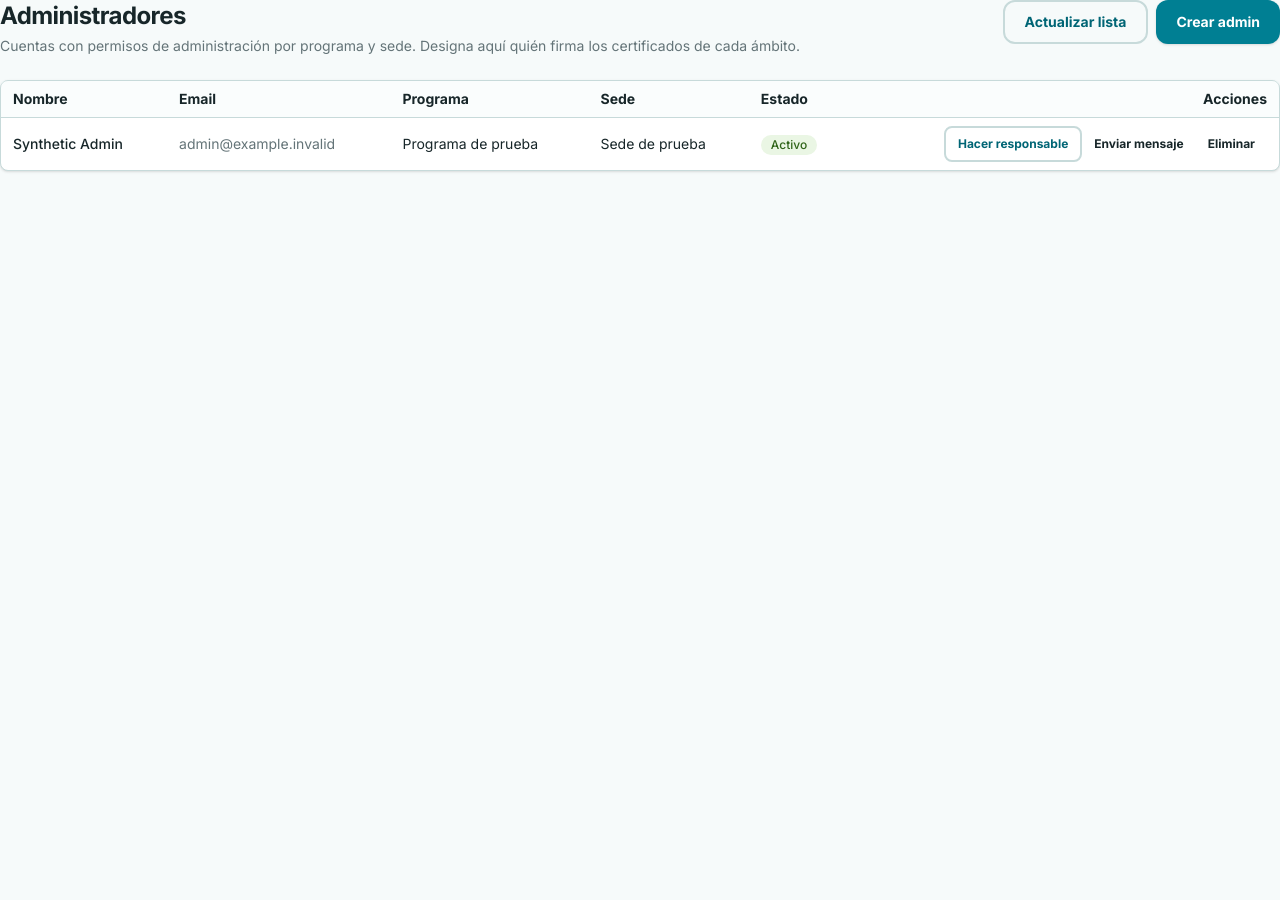
Test case: shows a safe error and retains the draft when thread creation fails
The image size is (1280, 900).
Expected: the text "admin@example.invalid" is shown, [167,118,390,170]
Click the button "Enviar mensaje". click: point(1139, 144)
box: [1082,126,1196,162]
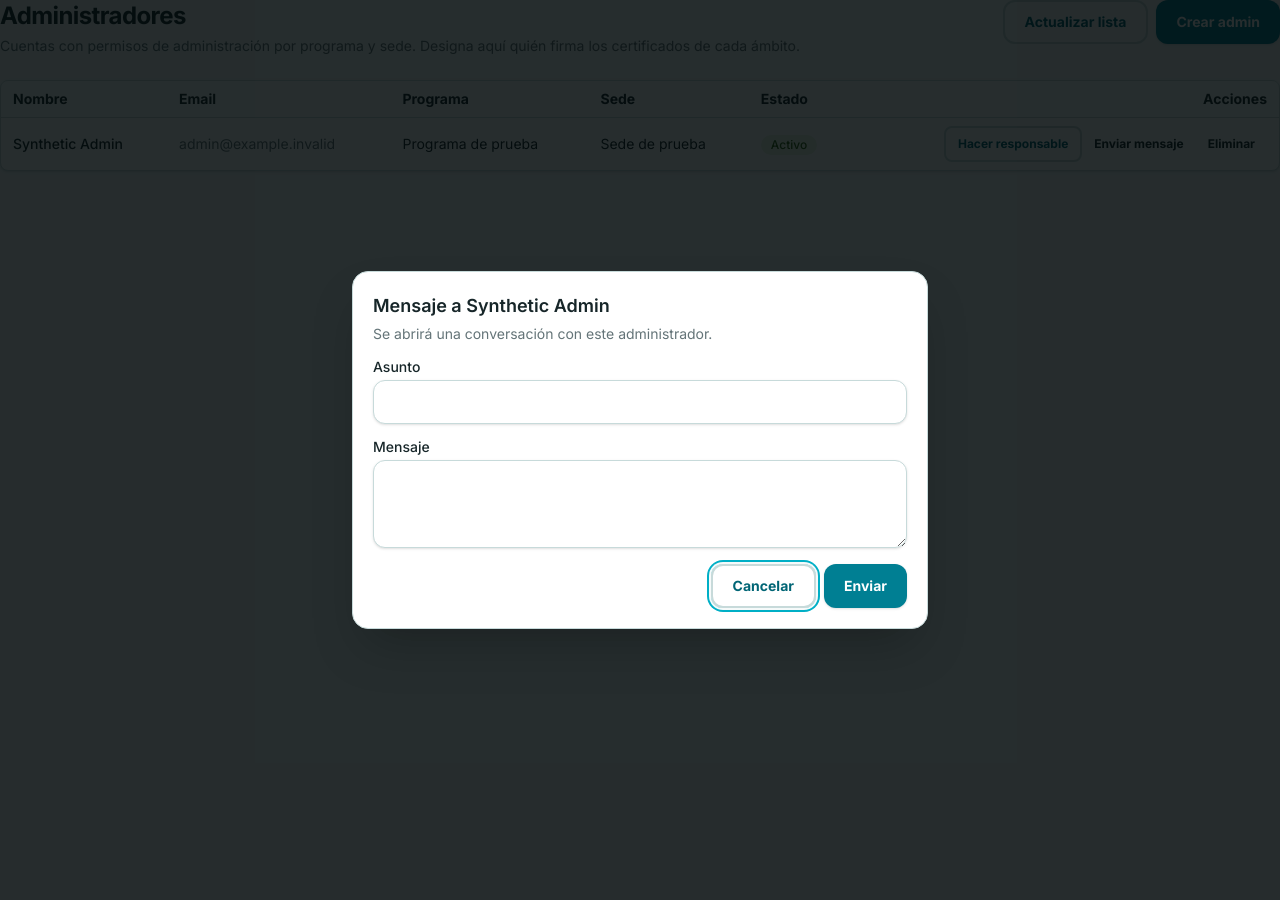
Type "Consulta de prueba" into the field labelled "Asunto". click: point(640, 402)
box: [373,380,907,424]
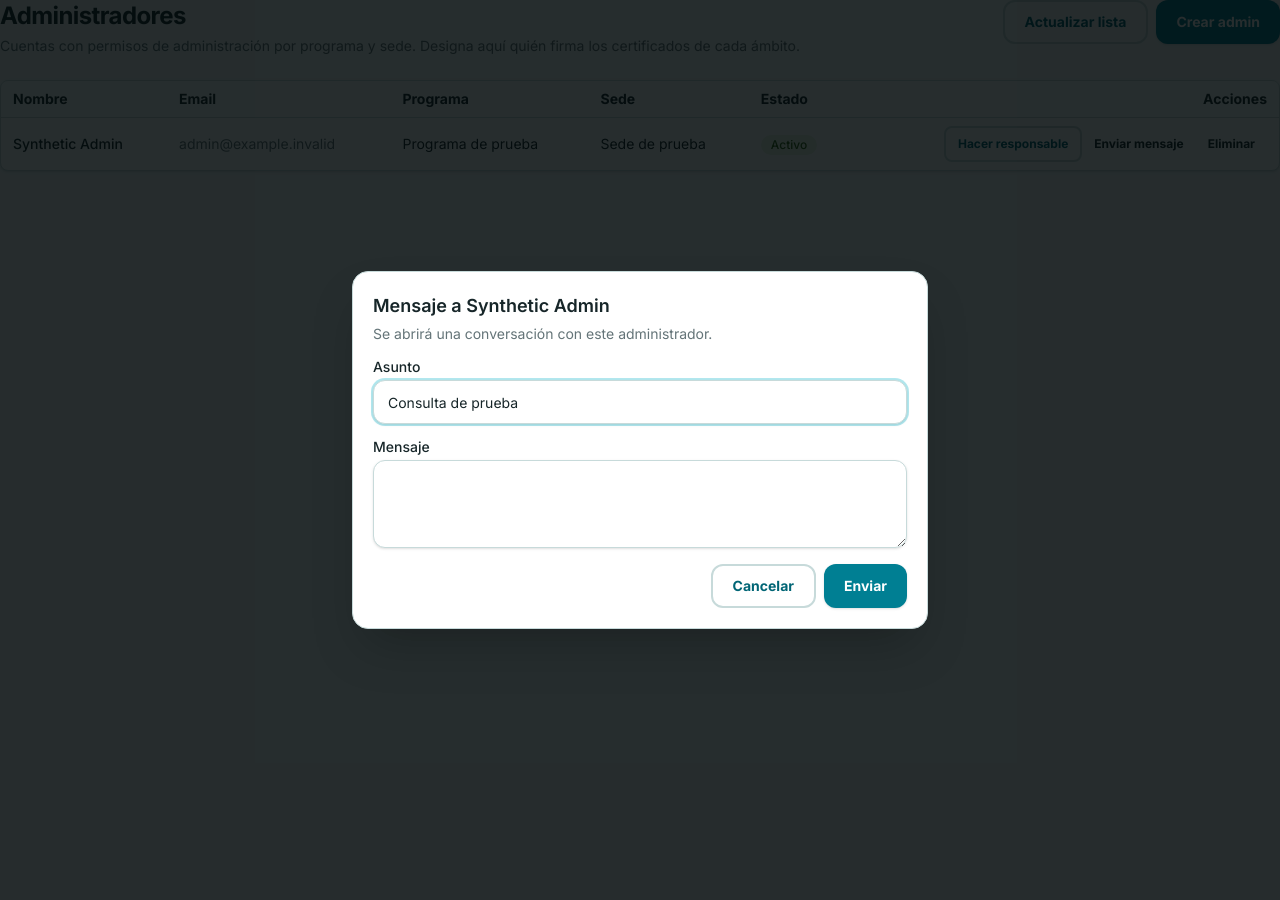
Type "Contenido sintético" into the text box labelled "Mensaje". click: point(640, 504)
box: [373,460,907,548]
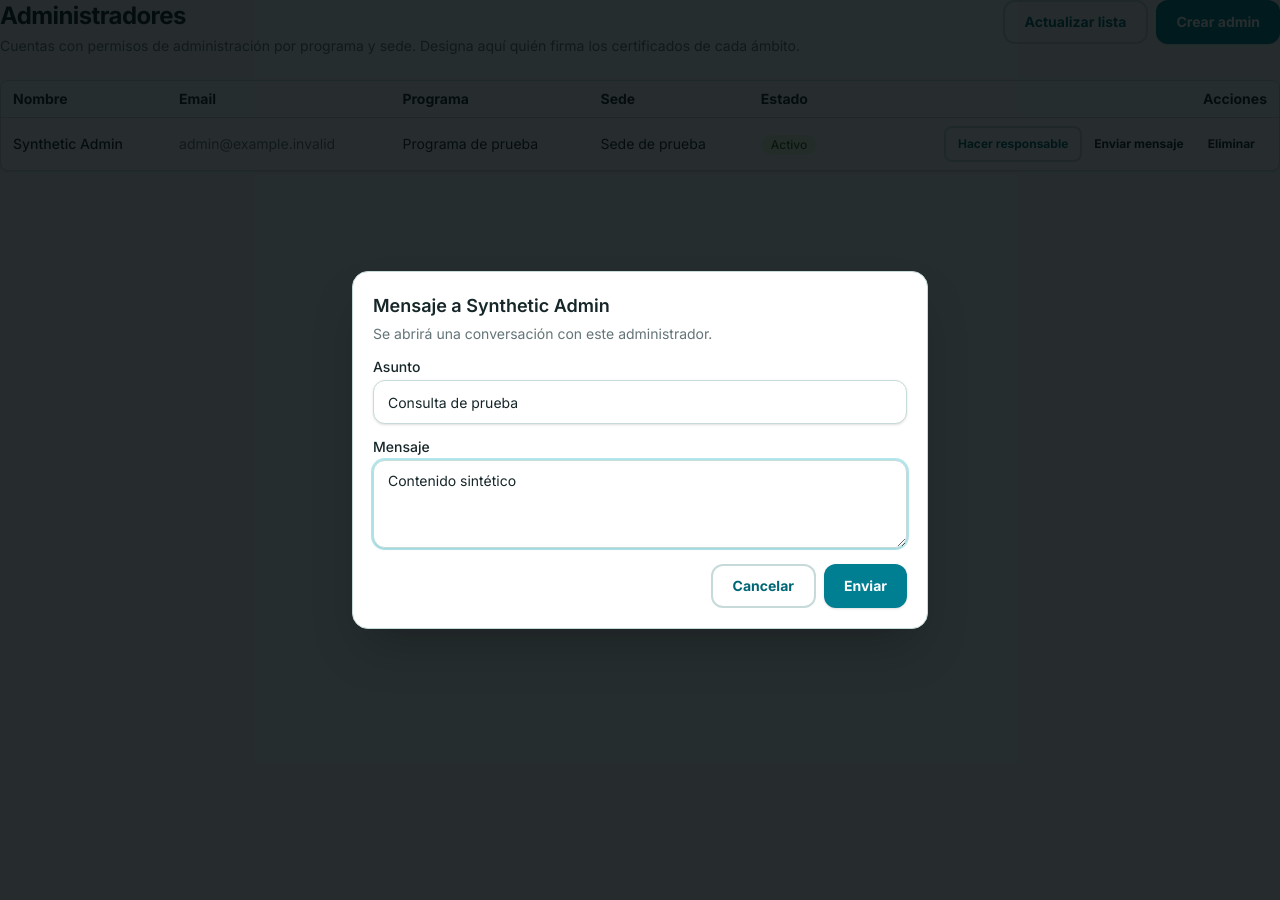
Click the button "Enviar". click: point(866, 586)
box: [824,564,907,608]
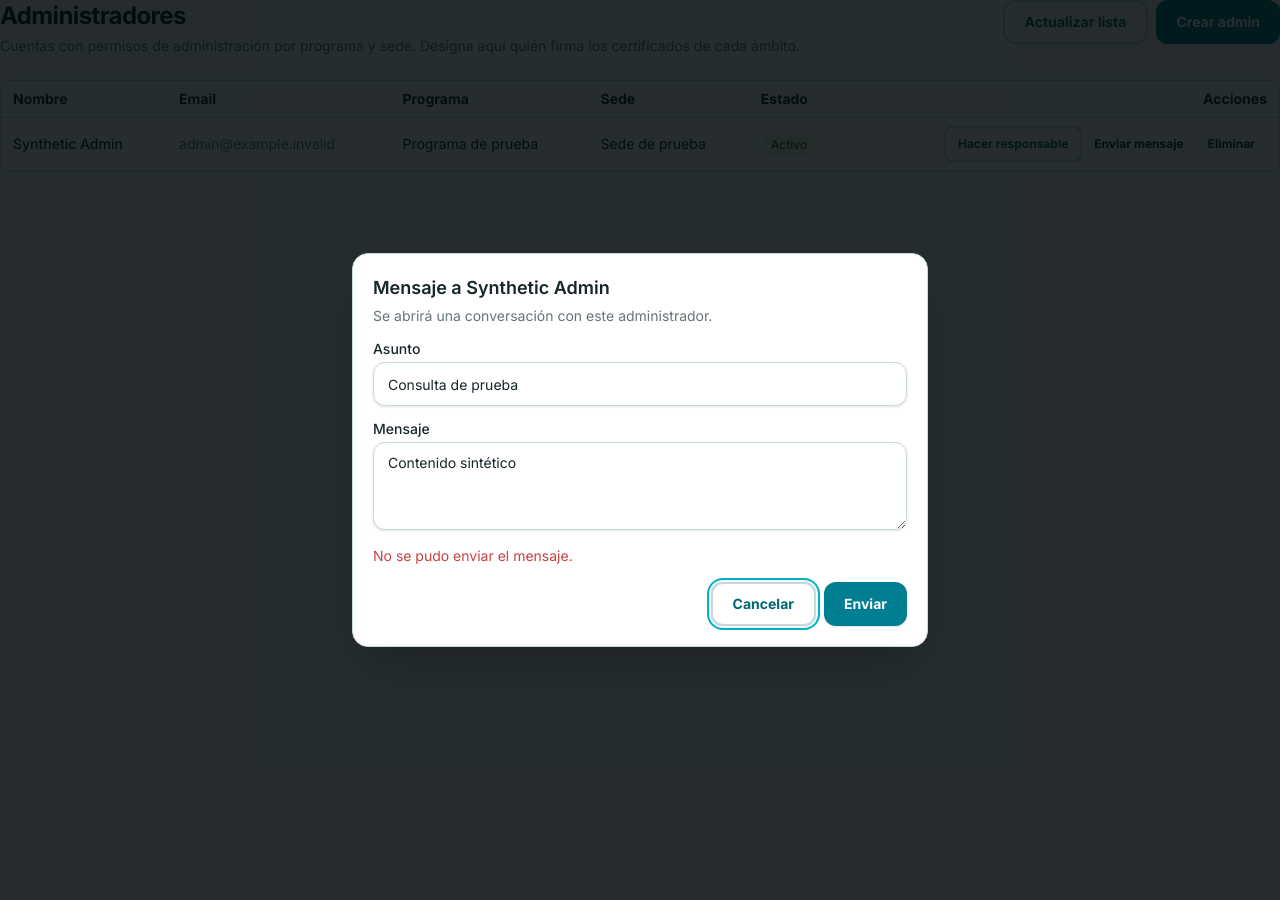
Result: the message reads "No se pudo enviar el mensaje." at [373,547,573,564]
